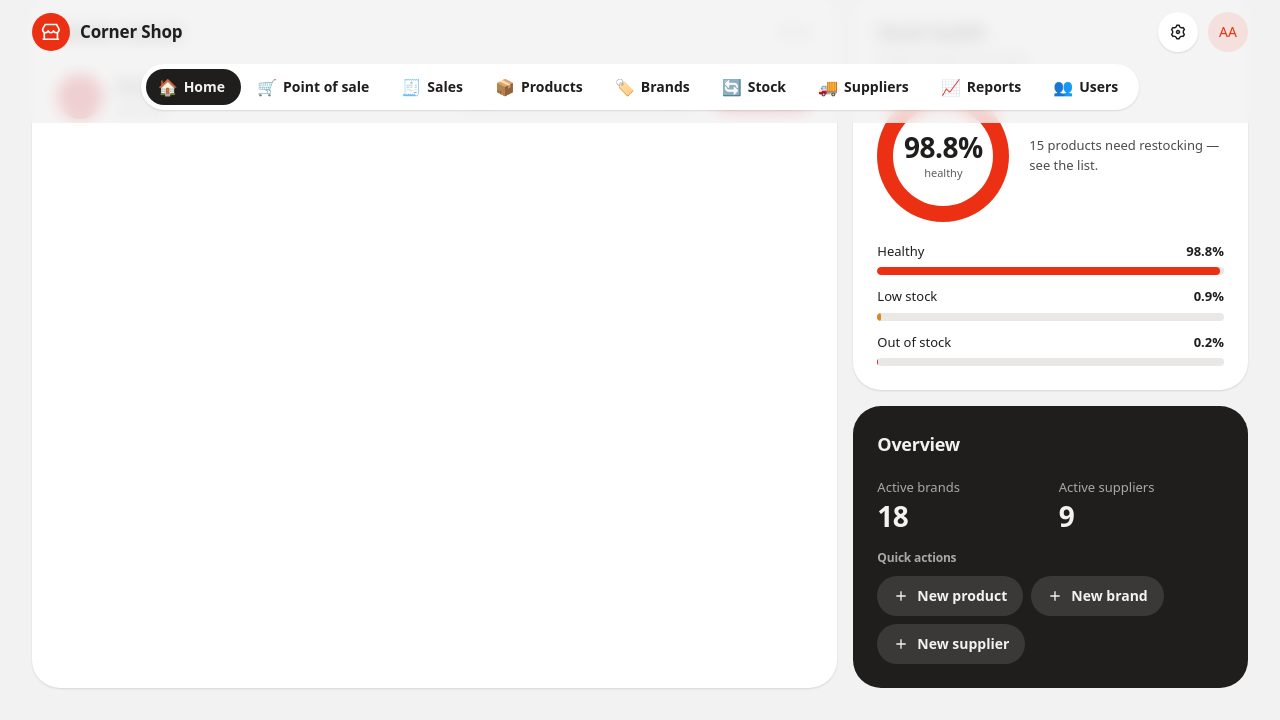
Test: DashboardPage › opens the New brand dialog from the New brand shortcut, once
This screenshot has width=1280, height=720.
(page scrolled)
Click the link "New brand" at point(1098, 596), box [1031,576,1164,616]
(page scrolled)
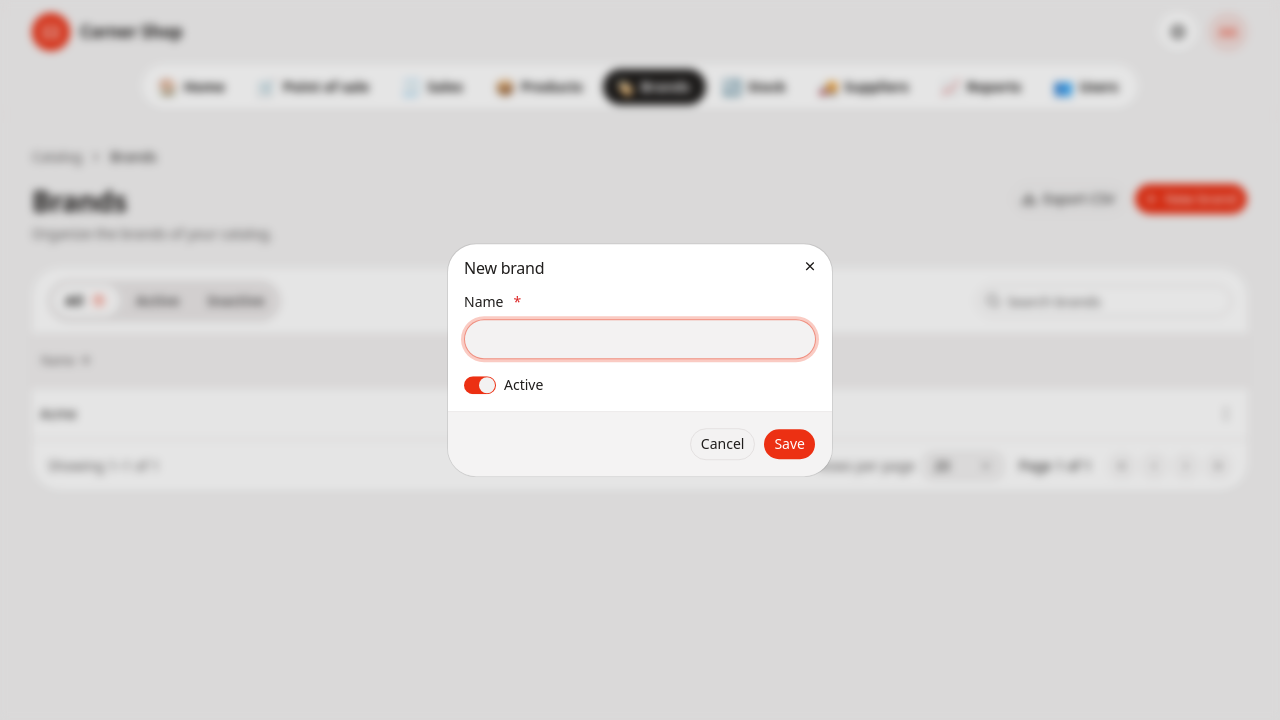
Check: the dialog "New brand" is shown, box [448,244,832,476]
